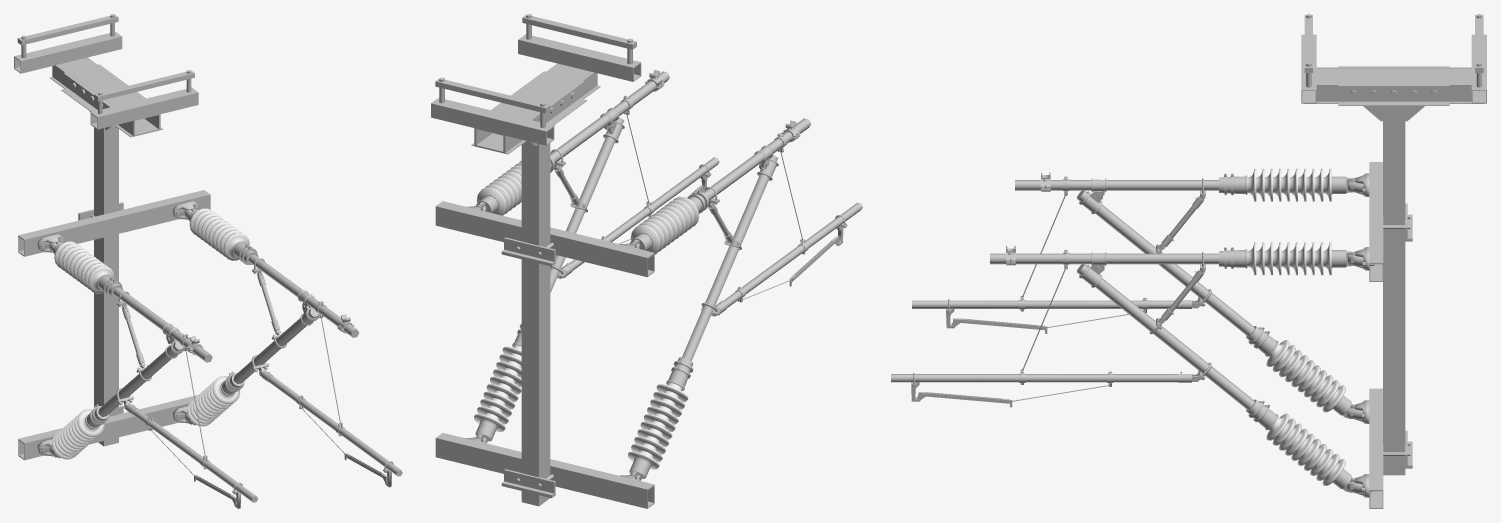
File: gantry_short_double_2.obj
3 renders of one model, left to right at view 1: azimuth 30°, elevation 25°; view 2: azimuth 150°, elevation 25°; view 3: azimuth 270°, elevation 25°, orthographic. The views are drawn at different scales.
Visible parts, largest first — view 1: 立方体.106, 立方体.243, 立方体.248, 立方体.096, 立方体.098, 立方体.103, 贝塞尔曲线.057, 贝塞尔曲线.072, 贝塞尔曲线.076, 贝塞尔曲线.073, 贝塞尔曲线.075, 贝塞尔曲线.074 (+4 smaller); view 2: 立方体.106, 立方体.248, 立方体.243, 立方体.096, 立方体.098, 立方体.103, 贝塞尔曲线.073, 贝塞尔曲线.072, 贝塞尔曲线.075, 贝塞尔曲线.076, 贝塞尔曲线.057, 立方体.105 (+6 smaller); view 3: 立方体.106, 立方体.103, 立方体.105, 贝塞尔曲线.057, 贝塞尔曲线.075, 贝塞尔曲线.076, 贝塞尔曲线.073, 贝塞尔曲线.072, 贝塞尔曲线.074, 立方体.248, 立方体.243, 立方体.096 (+2 smaller).
Boxes of the visible parts, box(x1,y1,x2,y2) form: 立方体.106: box(94, 126, 118, 446); 立方体.243: box(18, 190, 210, 256); 立方体.248: box(18, 395, 197, 460); 立方体.096: box(90, 87, 198, 129); 立方体.098: box(14, 31, 122, 73); 立方体.103: box(55, 57, 145, 107); 贝塞尔曲线.057: box(268, 376, 402, 476); 贝塞尔曲线.072: box(132, 409, 257, 502); 贝塞尔曲线.076: box(248, 254, 358, 337); 贝塞尔曲线.073: box(98, 341, 183, 417); 贝塞尔曲线.075: box(233, 308, 318, 384); 贝塞尔曲线.074: box(113, 287, 212, 362); 立方体.106: box(521, 141, 550, 506); 立方体.248: box(435, 433, 654, 508); 立方体.243: box(435, 201, 654, 277); 立方体.096: box(518, 34, 641, 81); 立方体.098: box(431, 98, 554, 145); 立方体.103: box(491, 63, 594, 120); 贝塞尔曲线.073: box(682, 155, 778, 360); 贝塞尔曲线.072: box(722, 202, 862, 307); 贝塞尔曲线.075: box(550, 117, 624, 293); 贝塞尔曲线.076: box(550, 71, 669, 162); 贝塞尔曲线.057: box(569, 157, 719, 270); 立方体.105: box(474, 72, 597, 153); 立方体.106: box(1383, 106, 1405, 475); 立方体.103: box(1316, 66, 1471, 86); 立方体.105: box(1316, 68, 1471, 101); 贝塞尔曲线.057: box(891, 374, 1178, 382); 贝塞尔曲线.075: box(1077, 264, 1254, 409); 贝塞尔曲线.076: box(990, 253, 1218, 264); 贝塞尔曲线.073: box(1077, 190, 1254, 336); 贝塞尔曲线.072: box(912, 300, 1178, 308); 贝塞尔曲线.074: box(1015, 180, 1218, 190); 立方体.248: box(1369, 388, 1383, 508); 立方体.243: box(1369, 162, 1383, 281); 立方体.096: box(1301, 34, 1316, 103).
Bounding box in the file's own units: 1.72 × 3.42 × 4.28.
